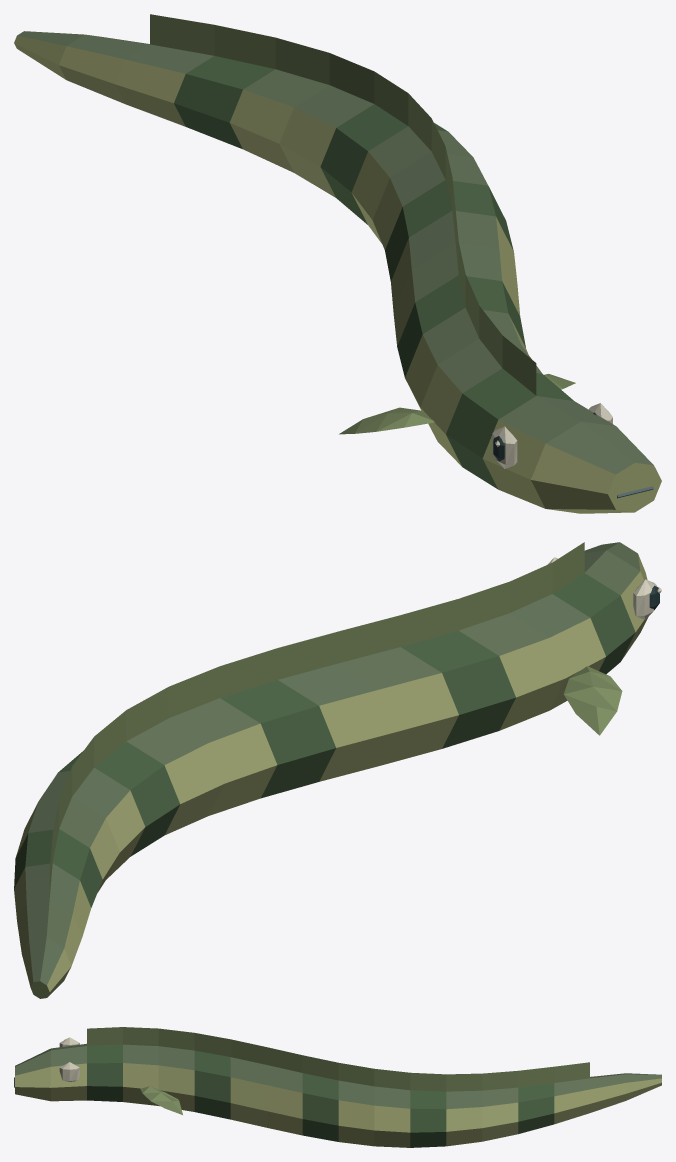
File: fish_bambooeel.glb
3 renders of one model, top to bottom at view 1: azimuth 30°, elevation 25°; view 2: azimuth 150°, elevation 25°; view 3: azimuth 270°, elevation 25°, orthographic. The views are drawn at different scales.
Parts seen in each view (by area): view 1: fish; view 2: fish; view 3: fish.
Part boxes in pixels (x1,y1,x2,y2): fish: [14, 14, 661, 513]; fish: [14, 542, 661, 998]; fish: [14, 1027, 661, 1147].
Size of the model in its own units: 0.3041 by 0.1254 by 0.9415.
